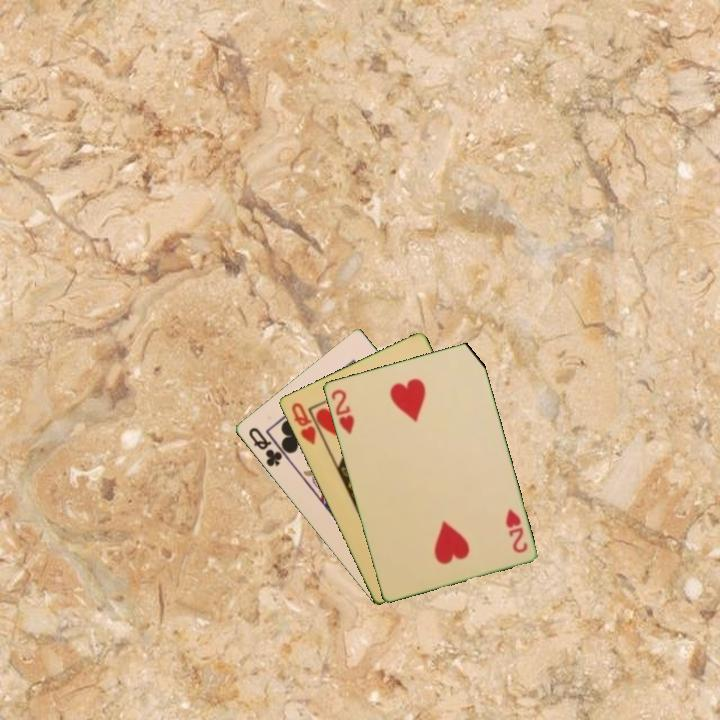2h: (327, 385, 357, 437), (501, 505, 530, 556)
Qc: (244, 424, 290, 470)
Qh: (287, 399, 319, 447)
